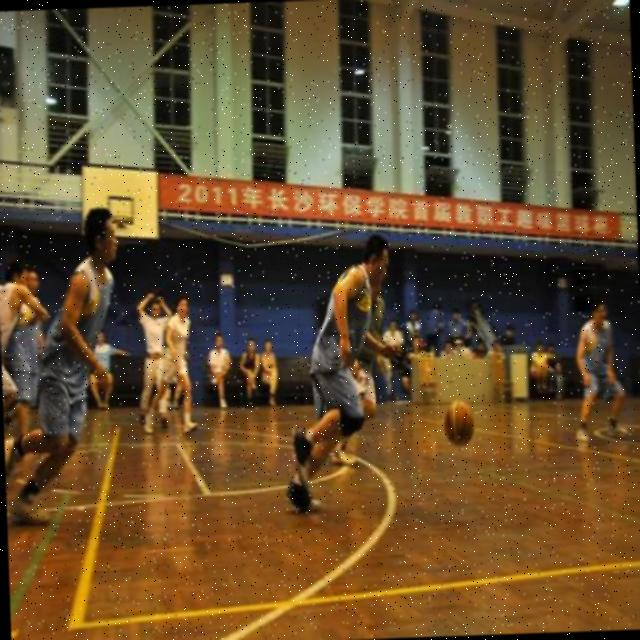ball: (442, 401, 475, 445)
